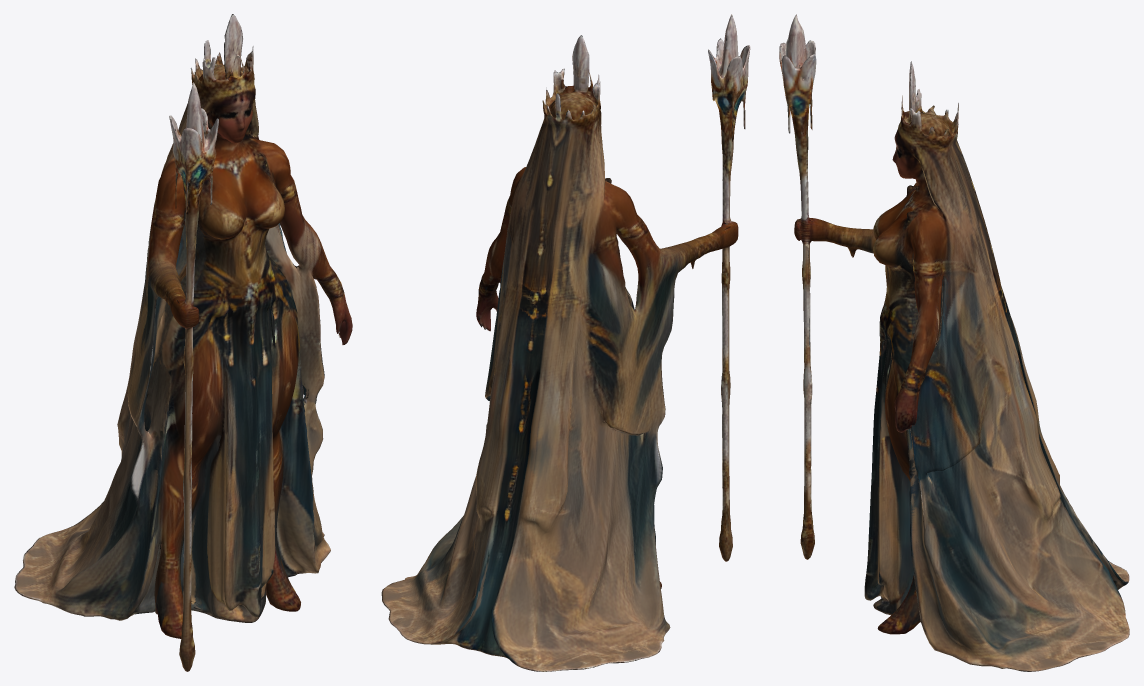
File: queen-rodin.glb
The picture shows the model from 3 angles, left to right: view 1: azimuth 30°, elevation 25°; view 2: azimuth 150°, elevation 25°; view 3: azimuth 270°, elevation 25°; orthographic projection. The views are drawn at different scales.
Visible parts, largest first — view 1: model; view 2: model; view 3: model.
Boxes of the visible parts, x1,y1,x2,y2 form: model: (14,14,352,671); model: (381,14,750,671); model: (779,14,1129,671).
Bounding box in the file's own units: 0.9757 × 1.88 × 1.08.
1 material, 1 textured.
